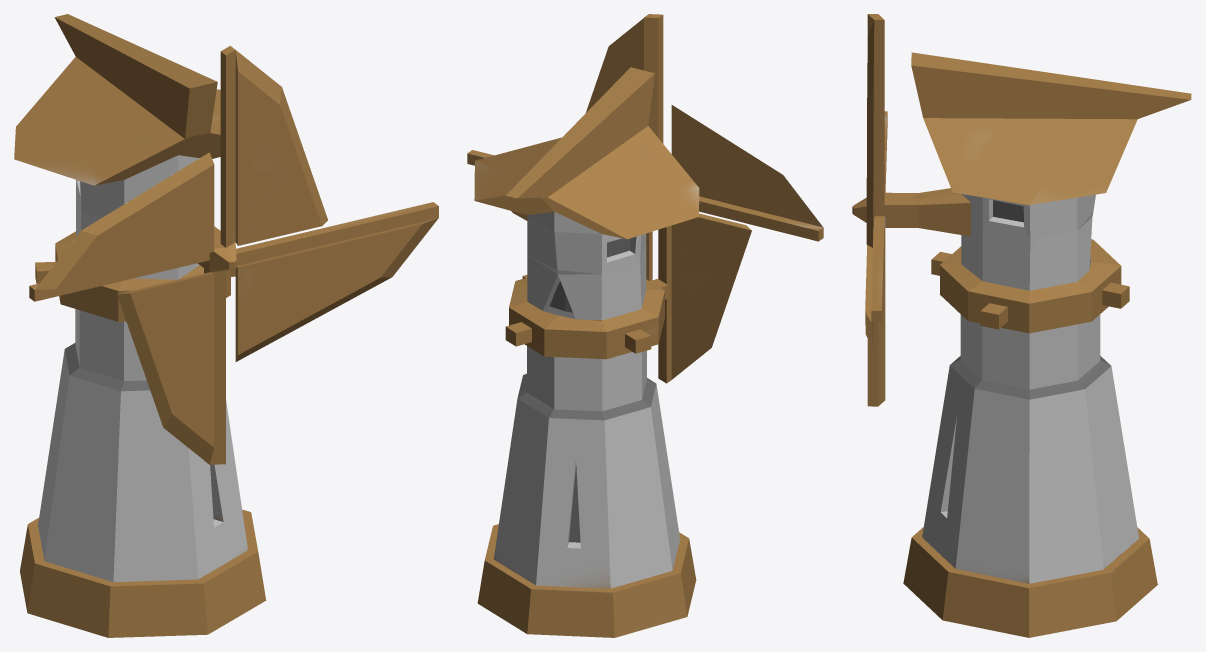
The model's file is windwill.fbx.
3 renders of one model, left to right at view 1: azimuth 30°, elevation 25°; view 2: azimuth 150°, elevation 25°; view 3: azimuth 270°, elevation 25°, orthographic. The views are drawn at different scales.
Parts seen in each view (by area): view 1: Windmill; view 2: Windmill; view 3: Windmill.
Part boxes in pixels (<box>): Windmill: <box>14,14,438,637</box>; Windmill: <box>467,14,823,637</box>; Windmill: <box>852,14,1191,637</box>.
Size of the model in its own units: 1805 by 2548 by 1376.
